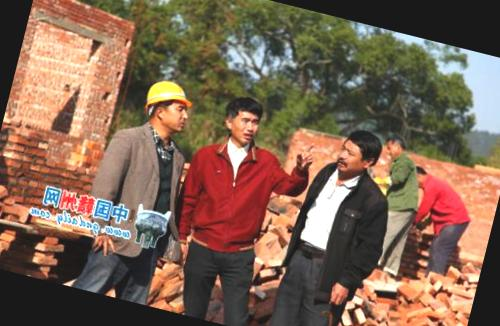no_helmet: (330, 124, 389, 184), (216, 91, 268, 146), (383, 130, 412, 160), (407, 162, 433, 188)
